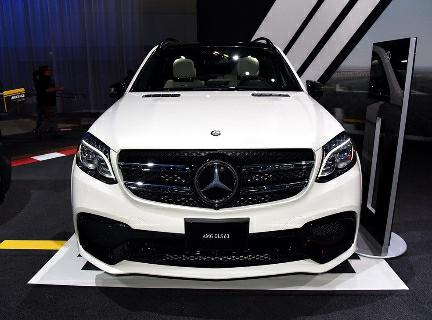奔驰-GLSAMG: (58, 32, 371, 284)
